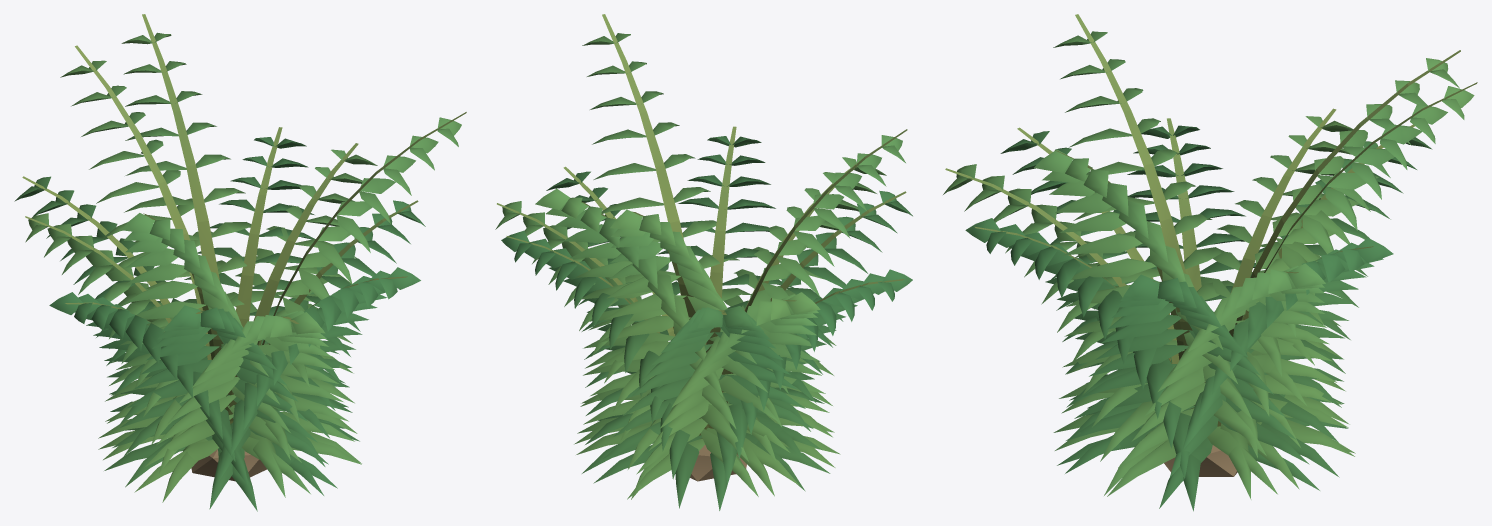
Rendered from fern_plant.glb.
The picture shows the model from 3 angles, left to right: view 1: azimuth 30°, elevation 25°; view 2: azimuth 150°, elevation 25°; view 3: azimuth 270°, elevation 25°; orthographic projection. The views are drawn at different scales.
Parts seen in each view (by area): view 1: fern_plant; view 2: fern_plant; view 3: fern_plant.
Boxes of the visible parts, left/top/right/bottom form: fern_plant: left=14, top=14, right=466, bottom=511; fern_plant: left=495, top=14, right=912, bottom=510; fern_plant: left=943, top=14, right=1477, bottom=511.
Size of the model in its own units: 0.8993 by 0.8847 by 1.03.
